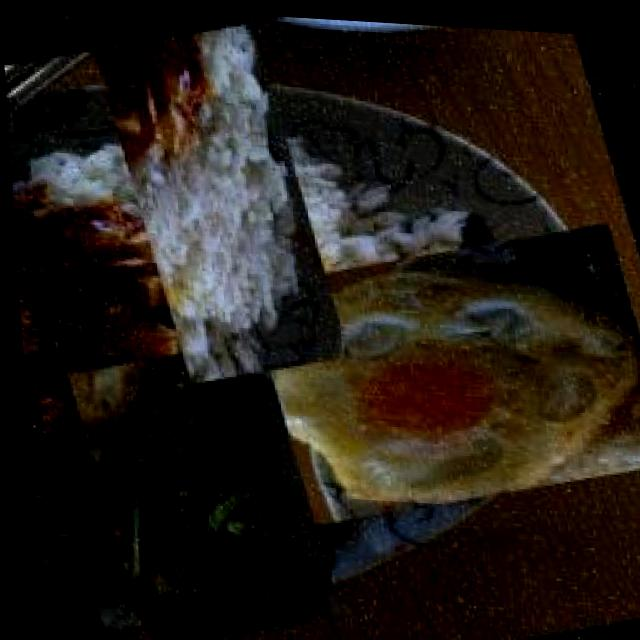fried_eggs: (215, 198, 640, 543)
rice: (60, 43, 379, 360)
water_spinach: (48, 341, 351, 640)
